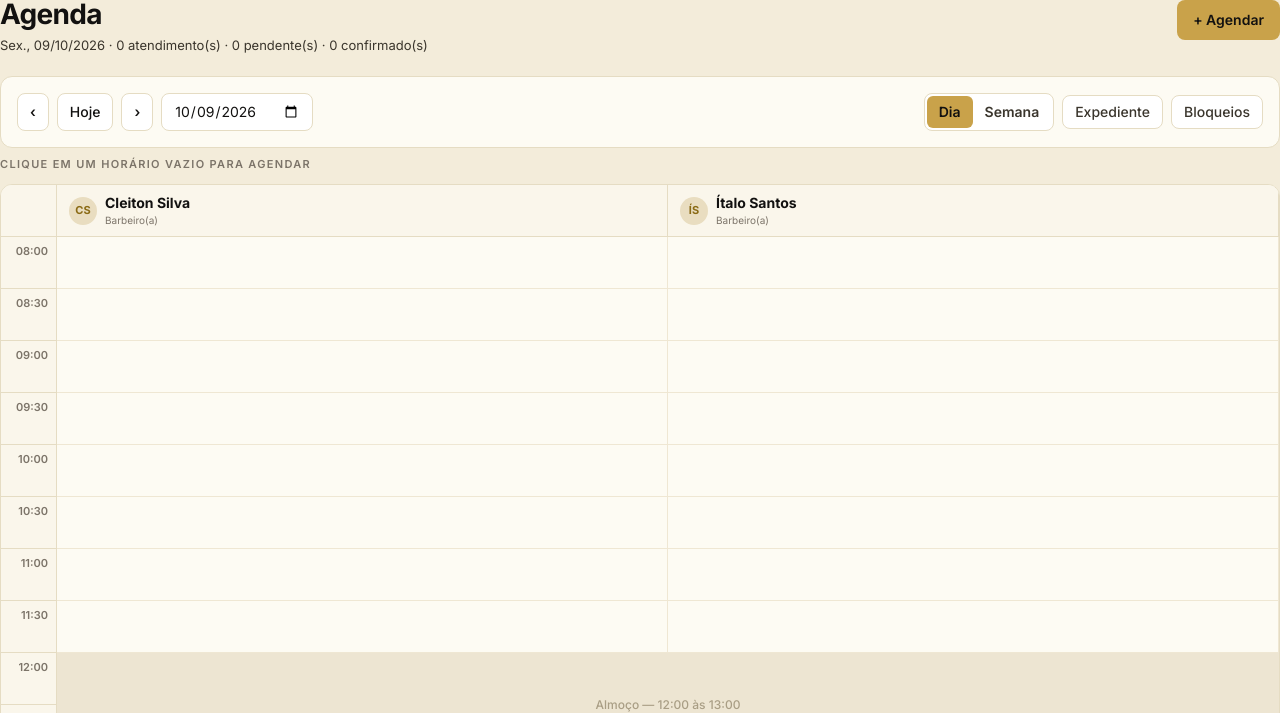
Test case: Integração Agenda → NovoAgendamentoModal › serviço longo que cruza o almoço é recusado
Click the element named "Agendar 11:00 com Cleiton Silva": (362, 575) [57, 549, 668, 601]
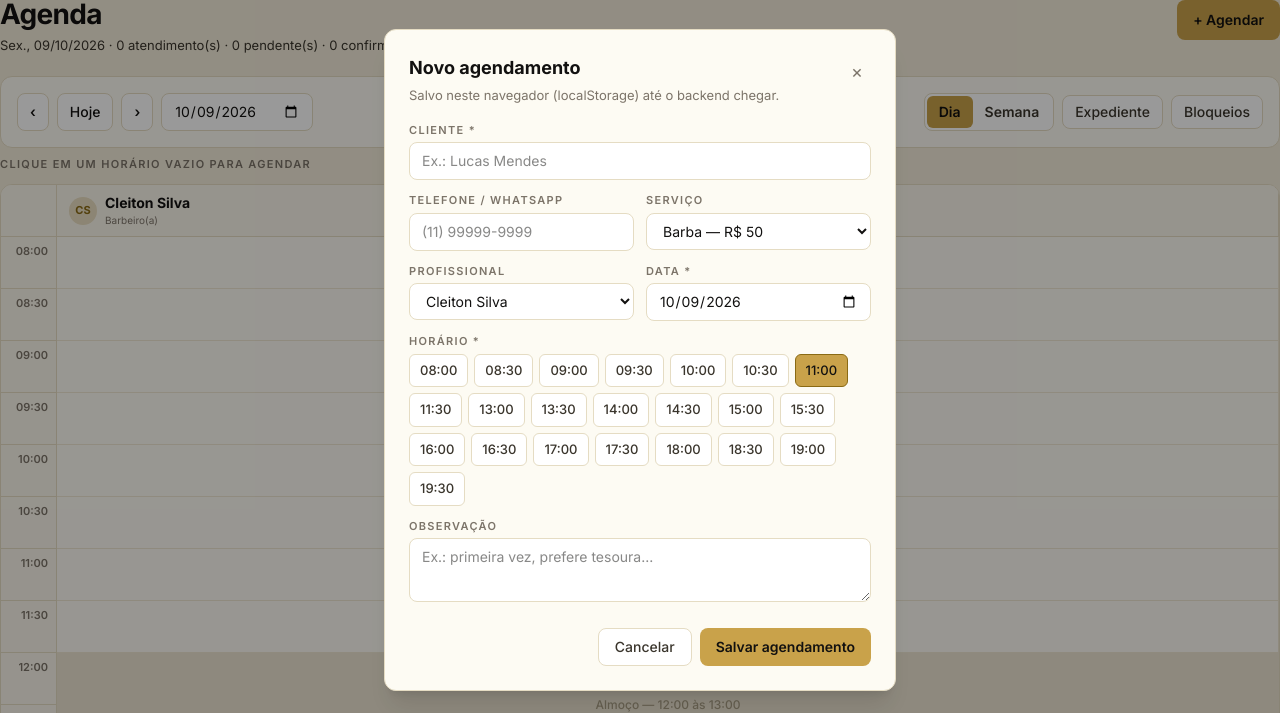
In the field labelled "Cliente *": (640, 161) [409, 142, 871, 180], type "Bruno Dias"
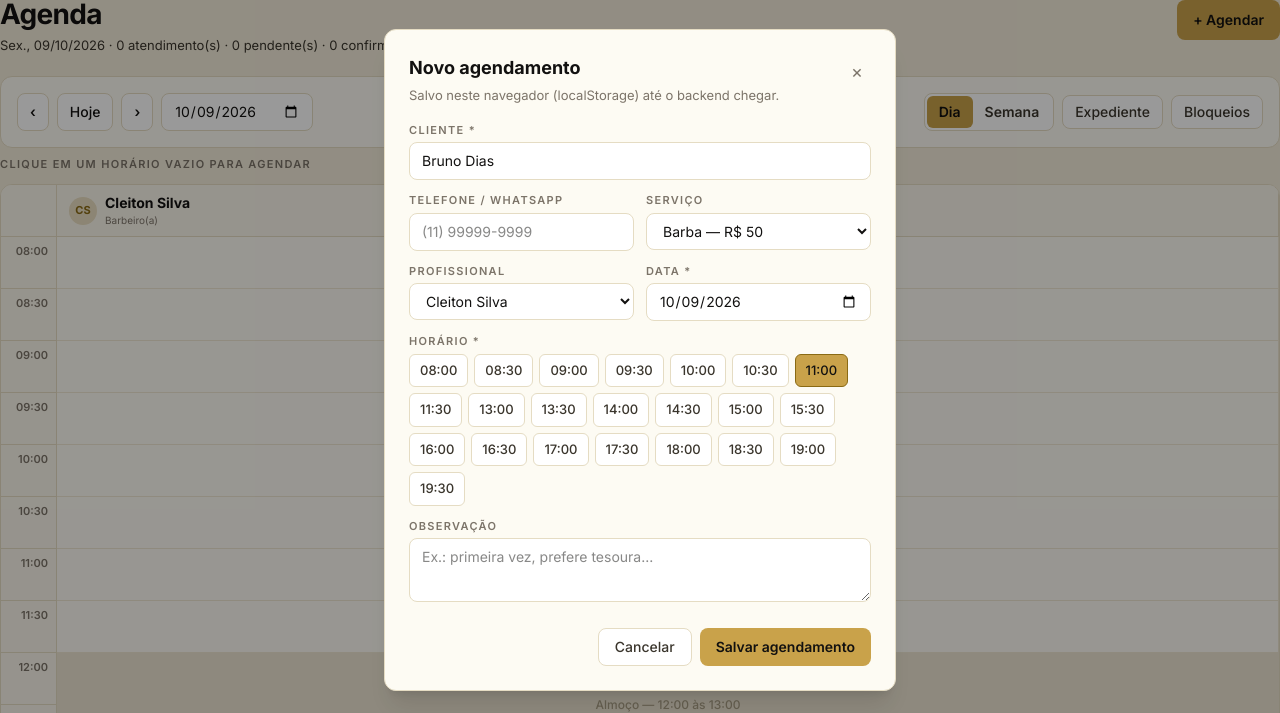
Select "Platinado / Luzes — R$ 180" in the dropdown labelled "Serviço": (758, 231) [646, 212, 871, 250]
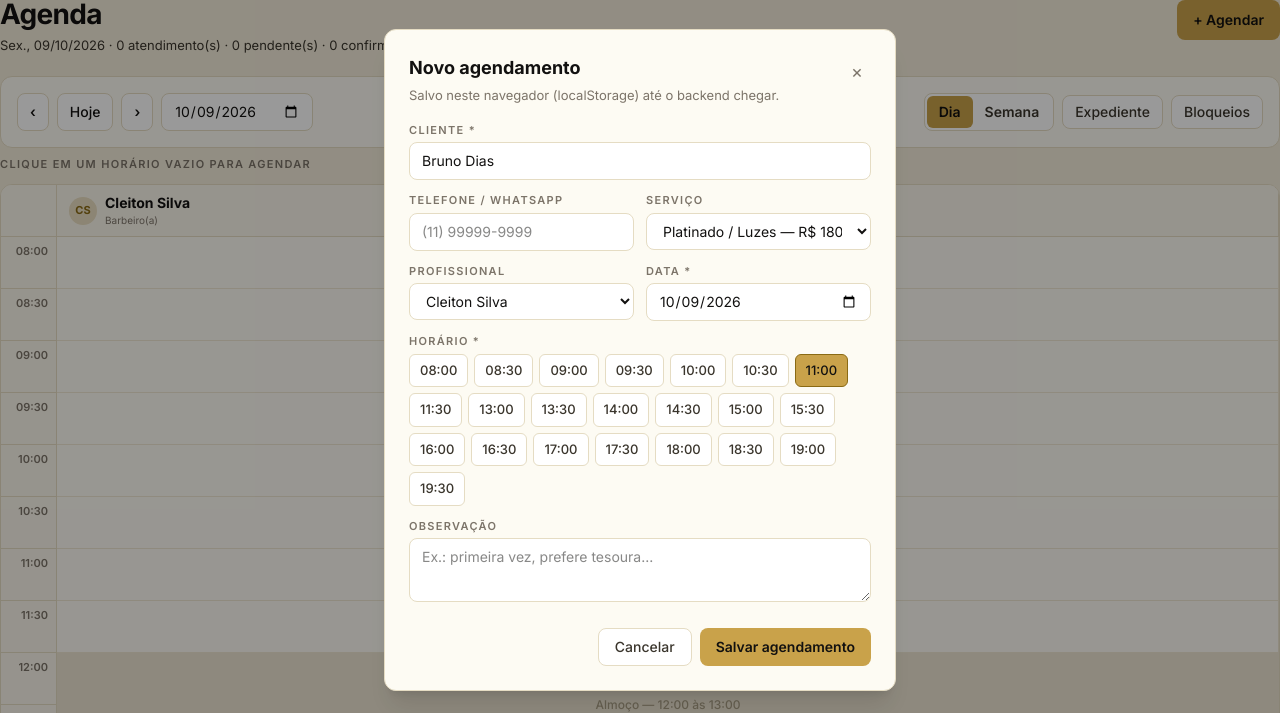
Click the button "Salvar agendamento": (785, 647) [700, 628, 871, 666]
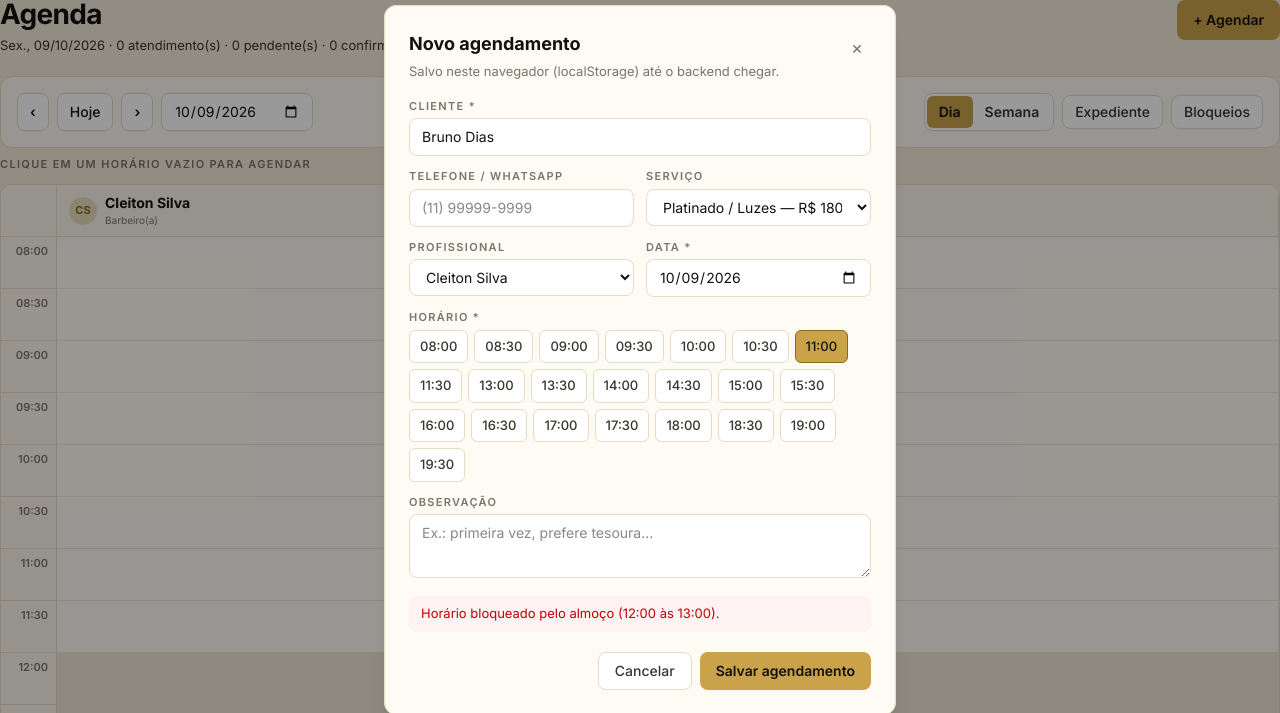
expect the heading "Novo agendamento" is shown: met, box [409, 33, 581, 54]
expect the text "Horário bloqueado pelo almoço (12:00 às 13:00)." is shown: met, box [409, 596, 871, 632]
